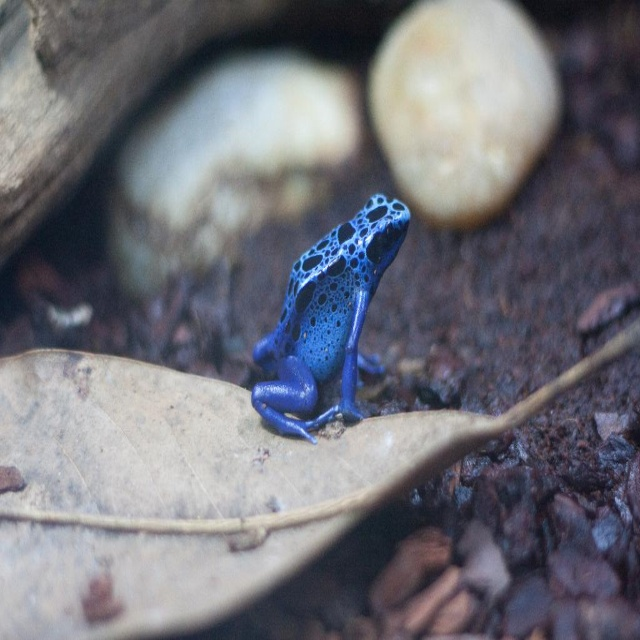Frog: (249, 189, 412, 445)
